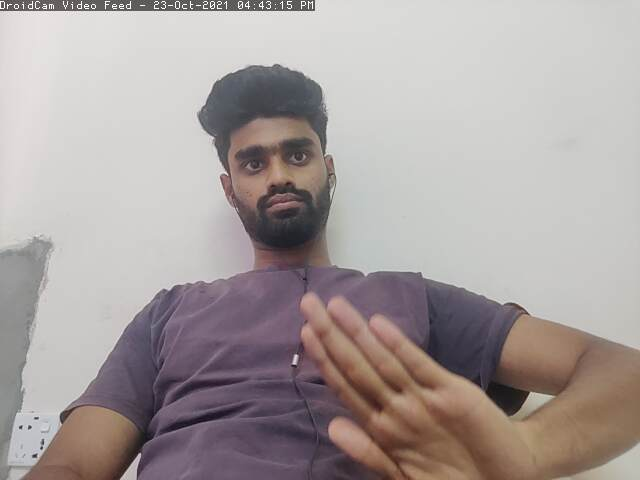Stop: (300, 293, 536, 480)
